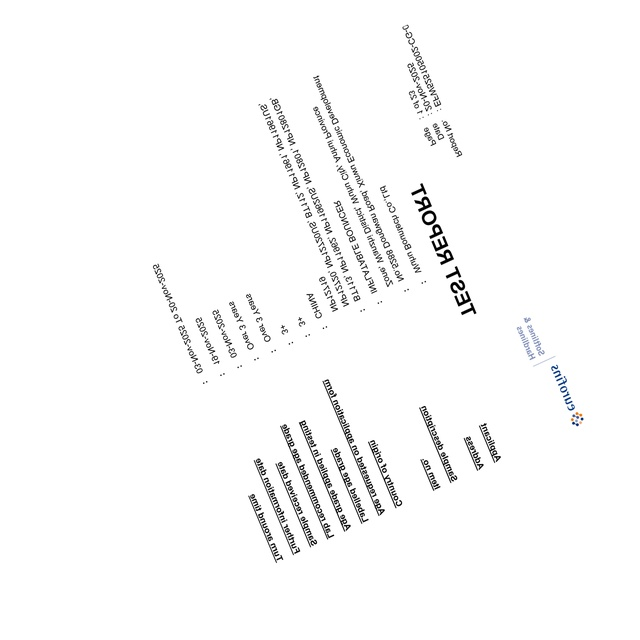eurofins: (542, 359, 595, 439)
